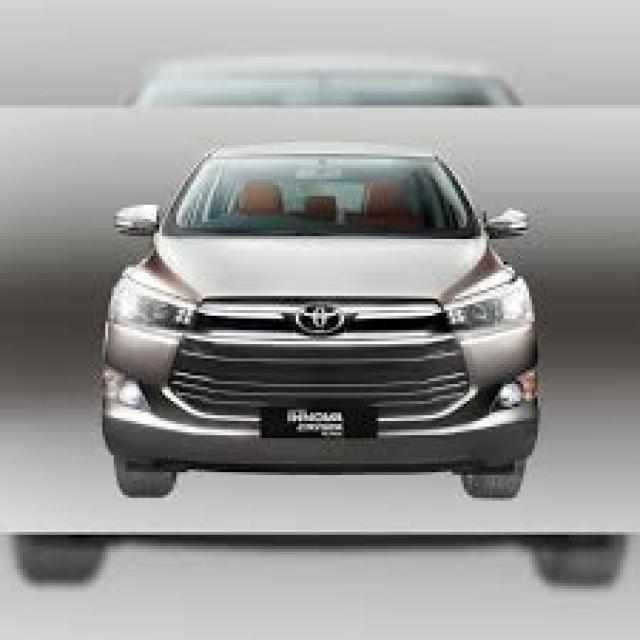light_vehicle: (99, 143, 540, 501)
